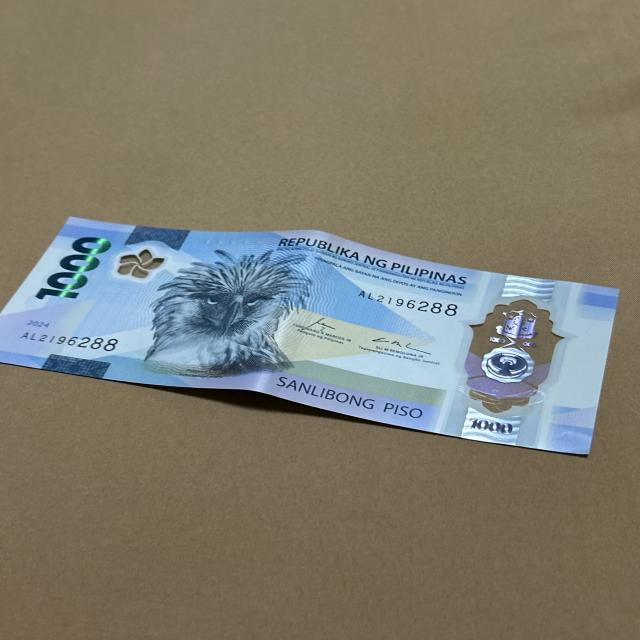clear_window: (461, 288, 558, 421)
eagle: (154, 241, 302, 379)
sampaguita: (117, 248, 163, 281)
